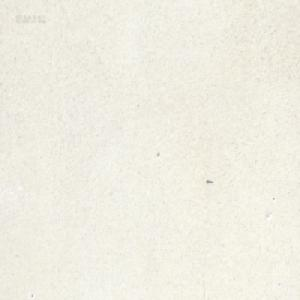Nail: (206, 178, 213, 184)
